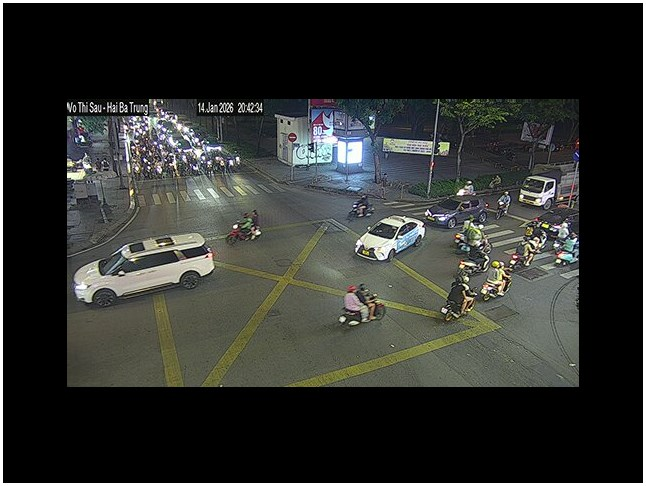car: (72, 231, 216, 307), (354, 214, 427, 263), (423, 197, 489, 228), (519, 174, 558, 209)
motorbike: (440, 286, 476, 322)
